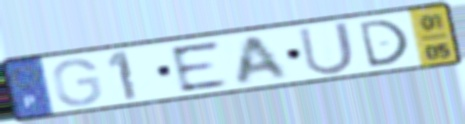1: (105, 48, 141, 104)
A: (234, 33, 293, 87)
D: (355, 17, 412, 70)
E: (166, 38, 232, 94)
G: (50, 57, 105, 108)
U: (295, 19, 358, 77)
